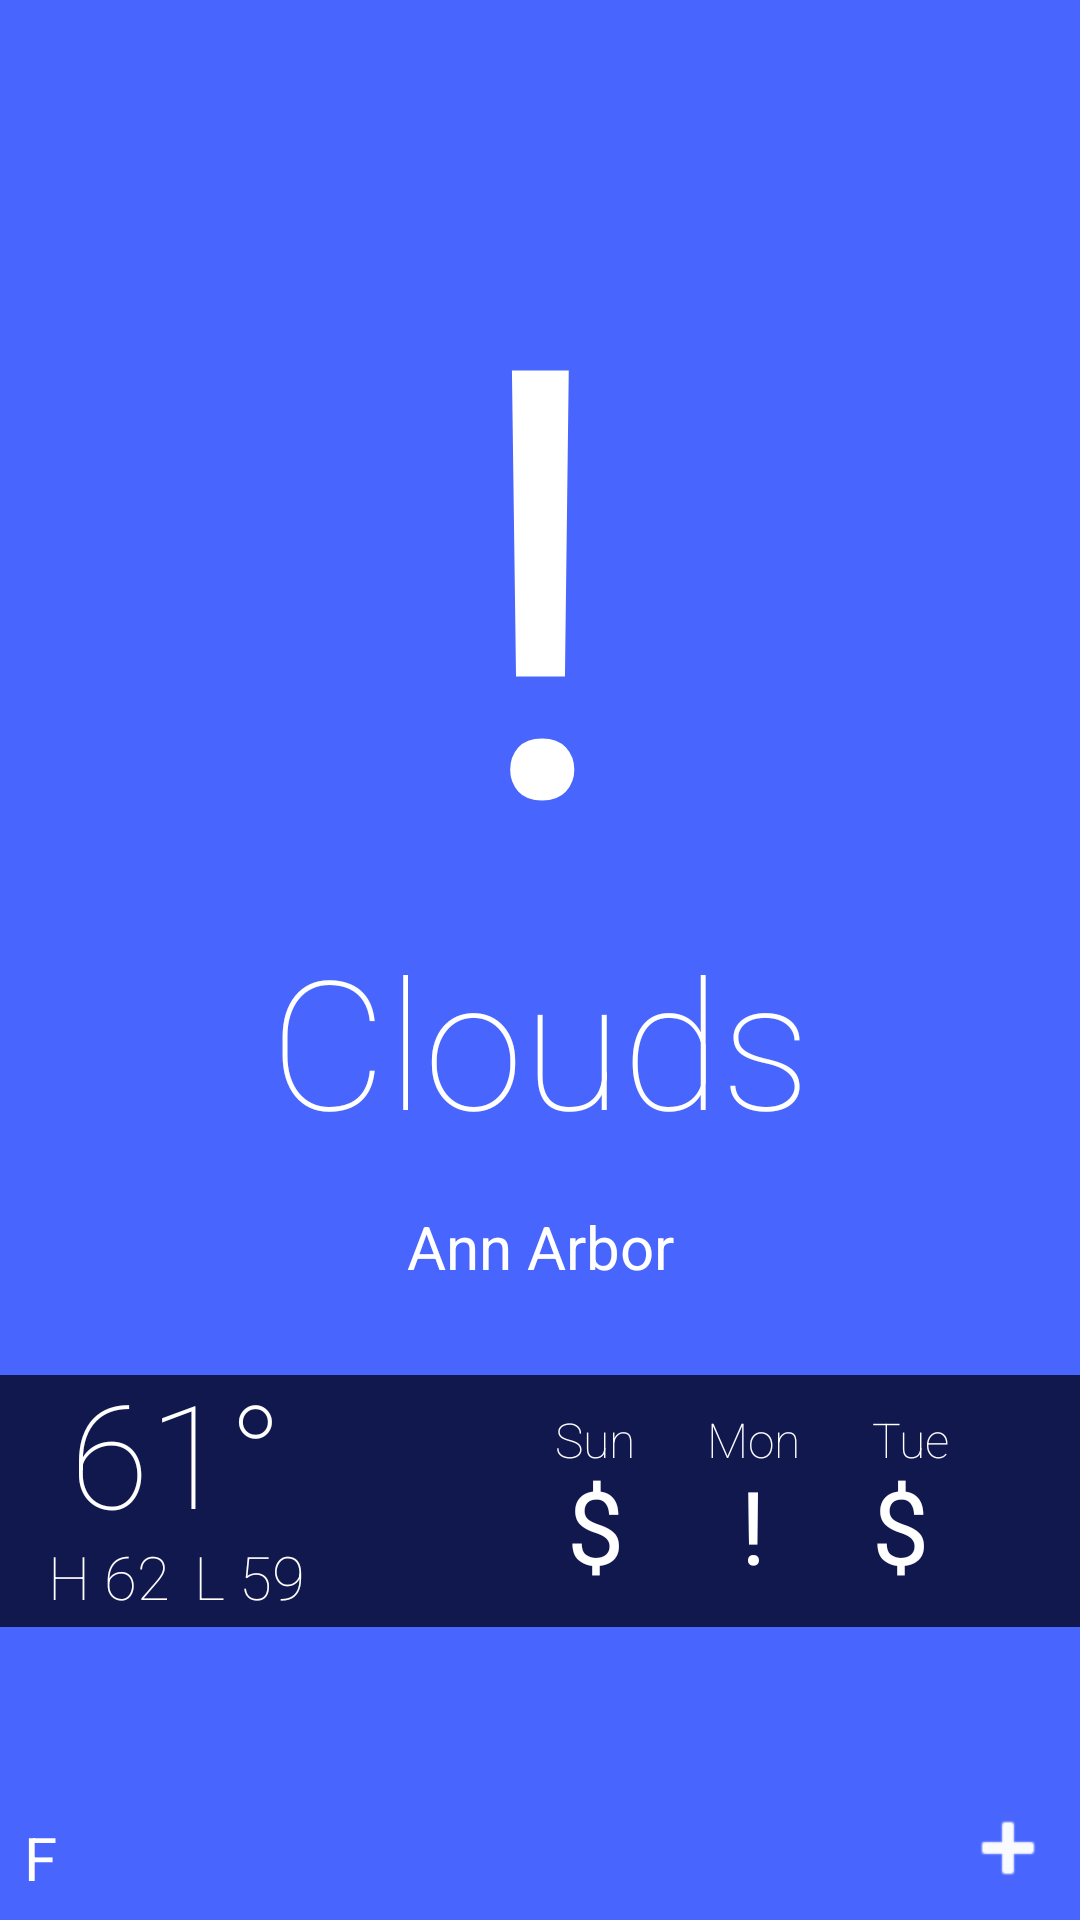

Where to tap for icons on this 1080*1920 app screen, as point (x, y):
add: point (1008, 1848)
